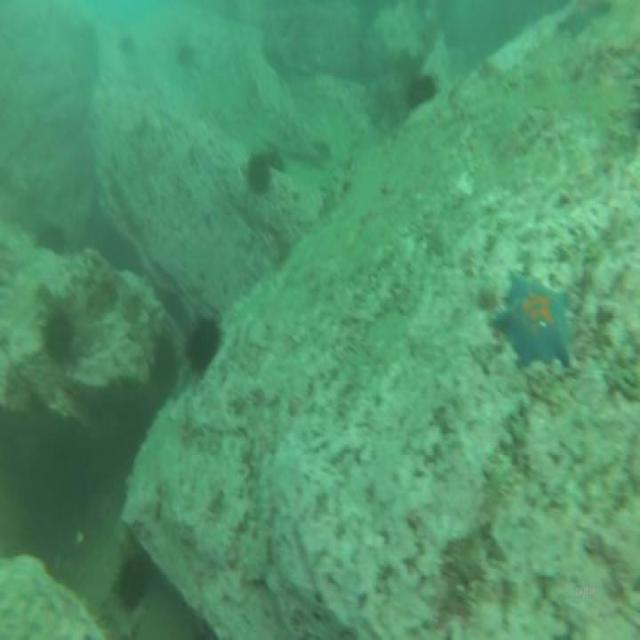echinus: (188, 319, 218, 368), (116, 558, 144, 610), (45, 321, 71, 359), (247, 153, 270, 194), (408, 74, 436, 103)
starfish: (496, 272, 572, 366)
